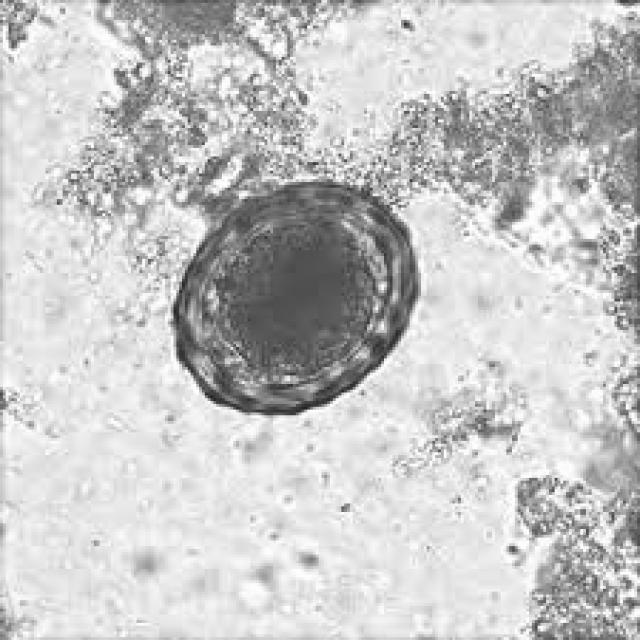Ascaris Lumbricoides: (167, 175, 426, 422)
